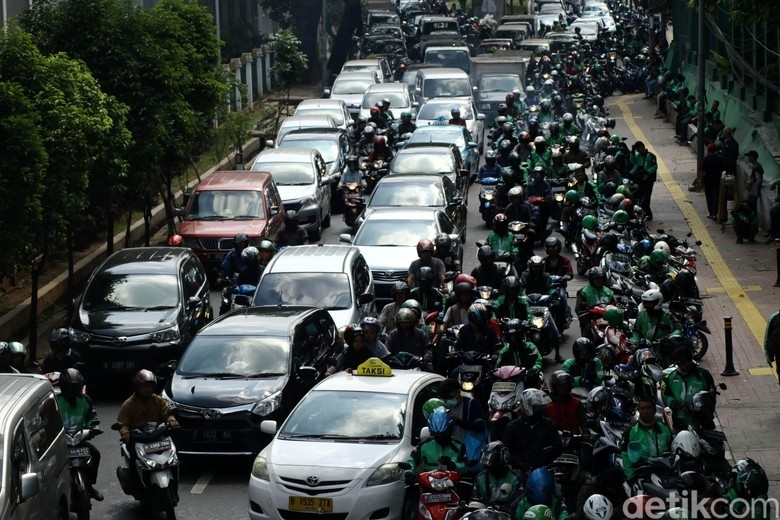plate: (289, 496, 333, 514), (65, 447, 90, 457), (143, 442, 170, 451)
